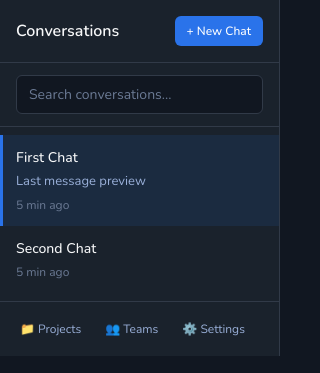
Test: ChatSidebar › search functionality › filters conversations by last message content
Step 1. Type "preview" into the field with test id "conversation-search" → coordinates (140, 94), box [16,75,263,114]
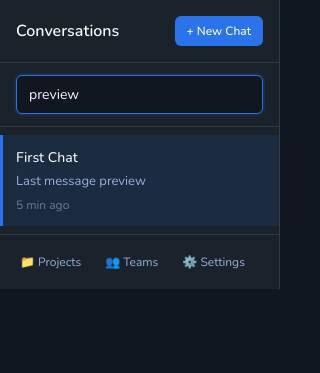
Check: the heading "First Chat" is shown, box [16,148,78,167]
Check: the heading "Second Chat" is gone
